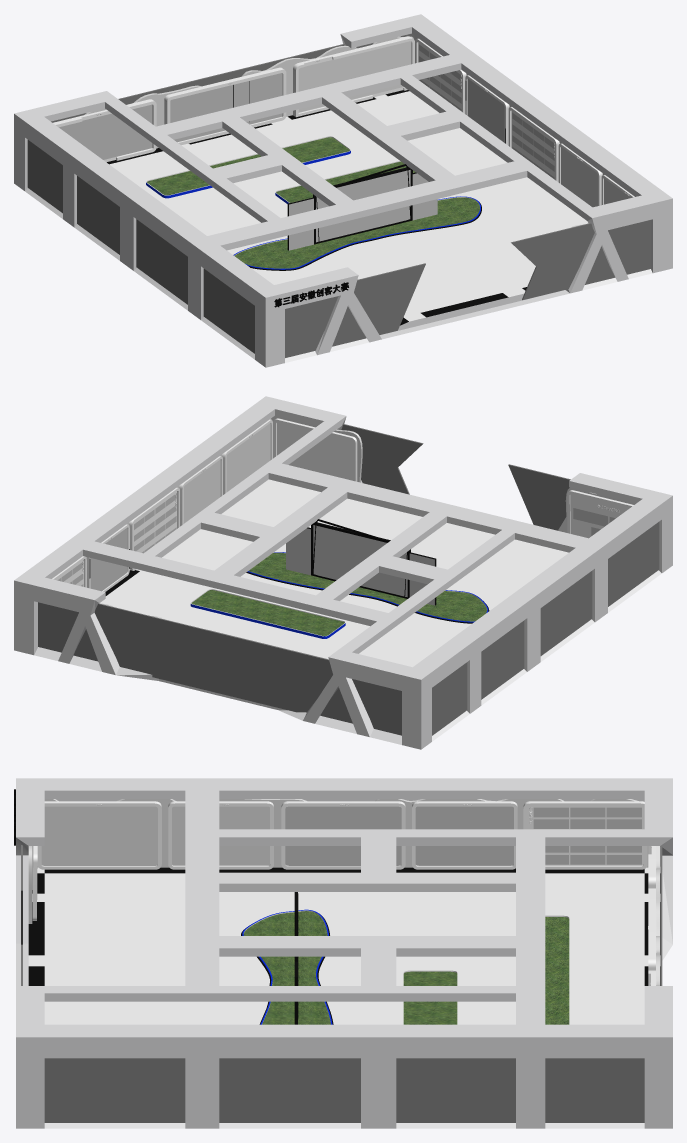
File: 三届展馆.FBX
The picture shows the model from 3 angles, top to bottom: view 1: azimuth 30°, elevation 25°; view 2: azimuth 150°, elevation 25°; view 3: azimuth 270°, elevation 25°; orthographic projection. The views are drawn at different scales.
Parts seen in each view (by area): view 1: Box001, Box024, Box027, Line006, Plane140, Plane139, Plane138, Box034, Plane060, Box013, Box025, Box003 (+10 smaller); view 2: Box001, Box025, Box027, Box024, Line006, Box035, Plane063, Box017, Plane131, Box018, Plane132, Box003 (+3 smaller); view 3: Box001, Box026, Plane133, Line006, Plane135, Plane136, Plane134, Box034, Box023, Line003, Box035, Box019 (+5 smaller).
Boxes of the visible parts, x1,y1,x2,y2 form: Box001: (14, 14, 672, 367); Box024: (285, 220, 650, 357); Box027: (27, 140, 254, 353); Line006: (233, 196, 481, 270); Plane140: (298, 41, 410, 112); Plane139: (170, 73, 281, 142); Plane138: (59, 104, 152, 159); Box034: (146, 136, 350, 198); Plane060: (316, 170, 410, 242); Box013: (164, 67, 286, 145); Box025: (51, 33, 414, 122); Box003: (508, 107, 559, 182); Box001: (14, 396, 672, 749); Box025: (38, 602, 401, 735); Box027: (432, 522, 659, 735); Box024: (341, 424, 570, 530); Line006: (246, 552, 489, 623); Box035: (190, 588, 345, 638); Plane063: (313, 525, 407, 597); Box017: (273, 418, 357, 481); Plane131: (226, 423, 270, 491); Box018: (567, 490, 633, 538); Plane132: (184, 459, 220, 523); Box003: (128, 487, 179, 570); Box001: (16, 778, 672, 1128); Box026: (44, 1058, 644, 1122); Plane133: (41, 806, 157, 865); Line006: (241, 909, 333, 1024); Plane135: (285, 806, 401, 865); Plane136: (415, 806, 513, 865); Plane134: (172, 806, 269, 865); Box034: (515, 915, 570, 1024); Box023: (523, 801, 647, 869); Line003: (32, 799, 648, 867); Box035: (402, 970, 458, 1024); Box019: (37, 801, 161, 869).
Bounding box in the file's own units: 656 × 108 × 705.
